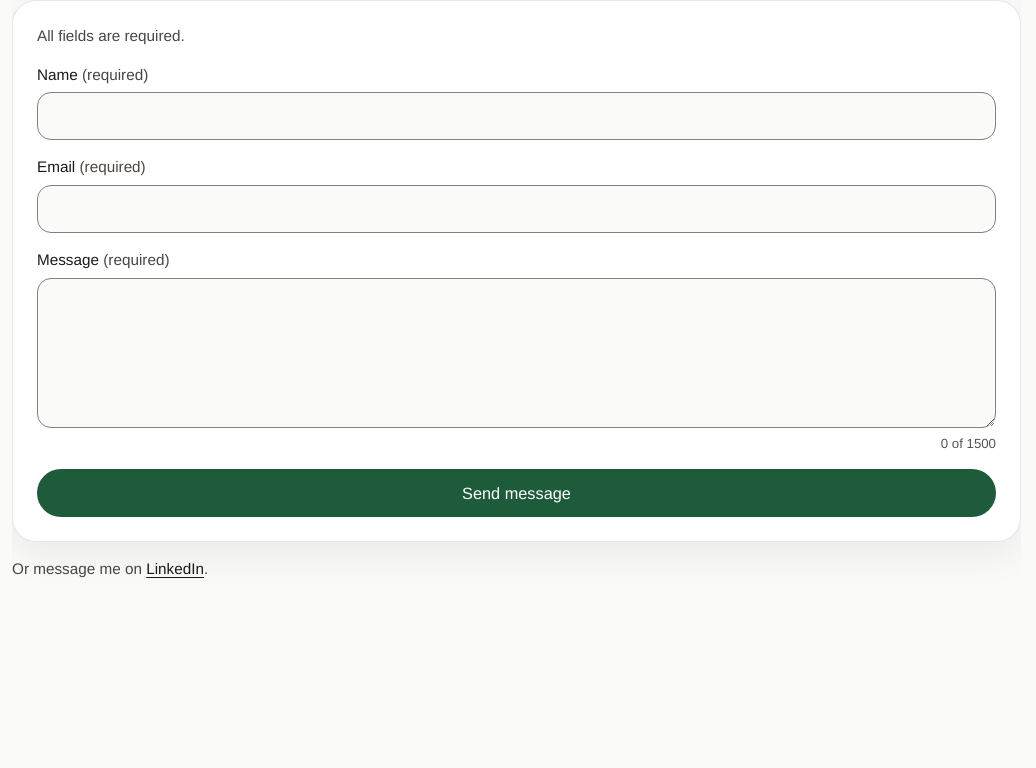
it: ContactForm analytics › records nothing when the API refuses the message
Type "Ada Lovelace" into the field labelled "Name (required)". click: point(516, 116)
box: [37,92,996,140]
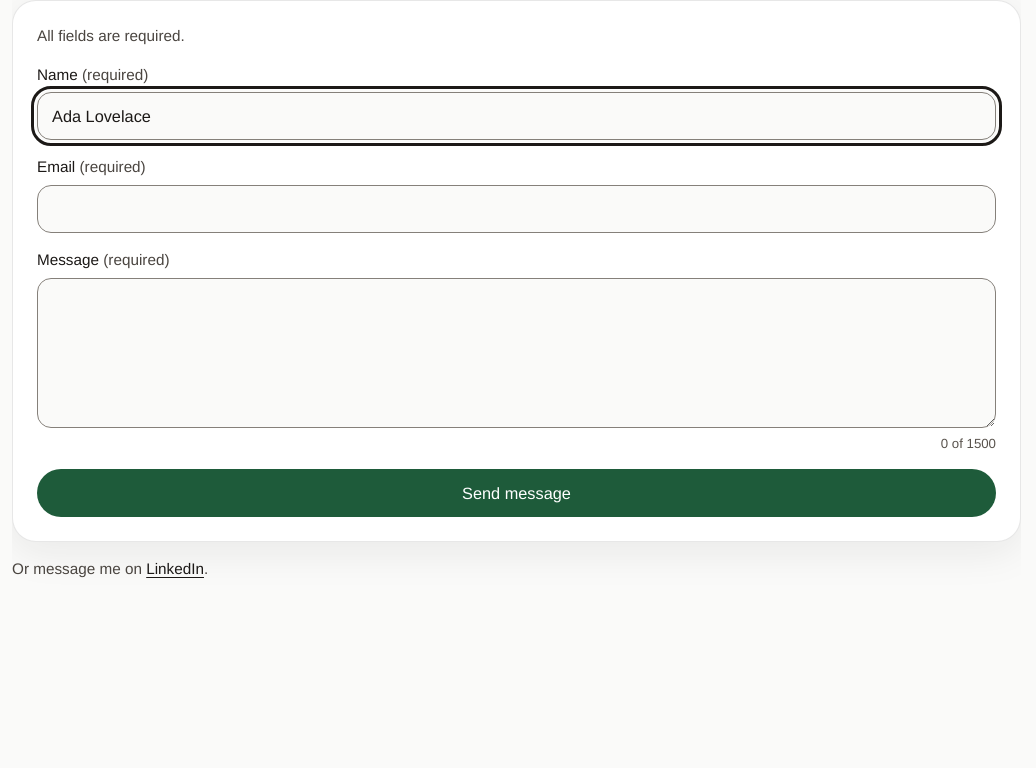
Type "ada@example.com" into the field labelled "Email (required)". click: point(516, 209)
box: [37,185,996,233]
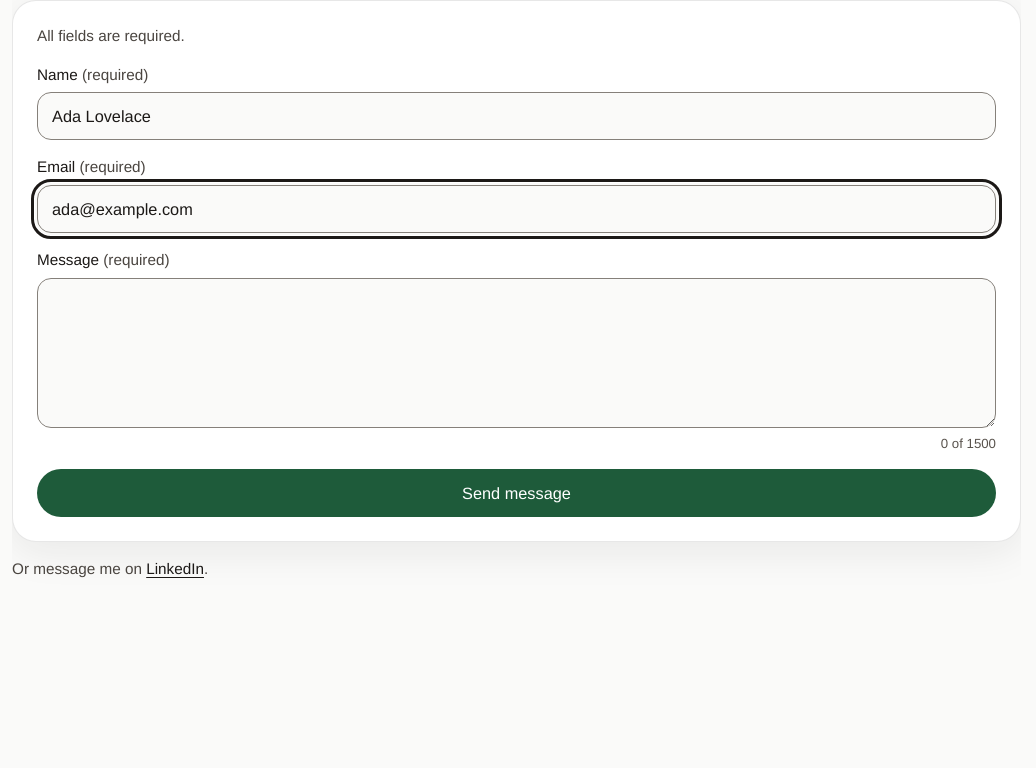
Type "Hello there." into the text box labelled "Message (required)". click: point(516, 353)
box: [37,278,996,428]
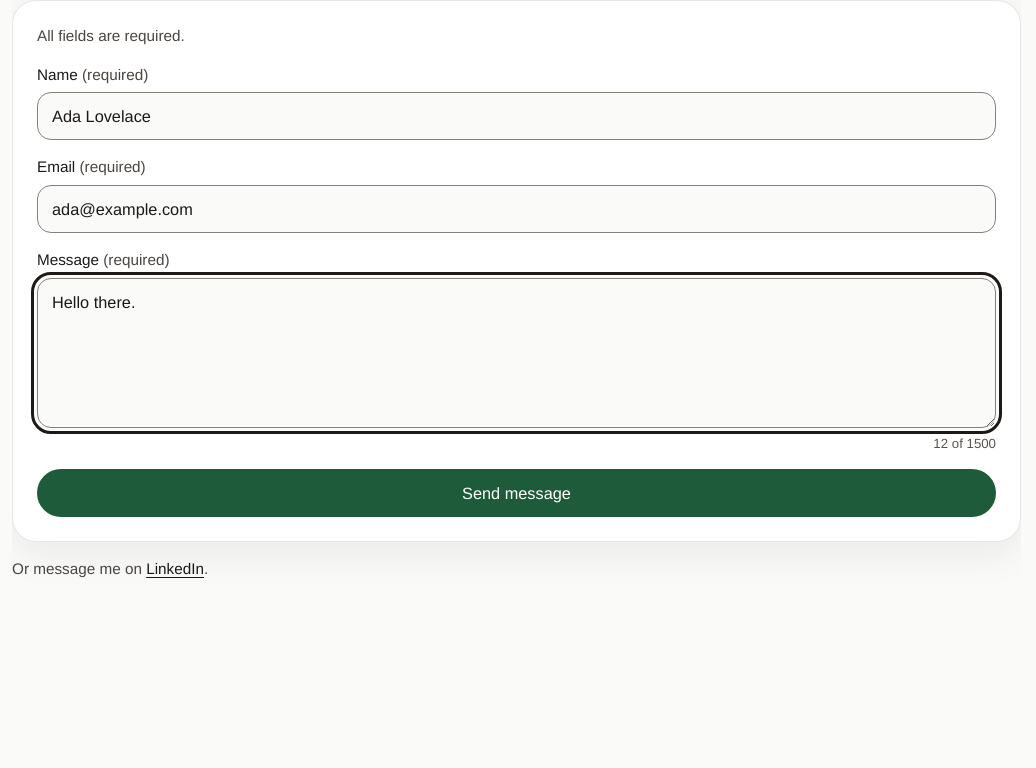
Click the button "Send message". click: point(516, 493)
box: [37,469,996,517]
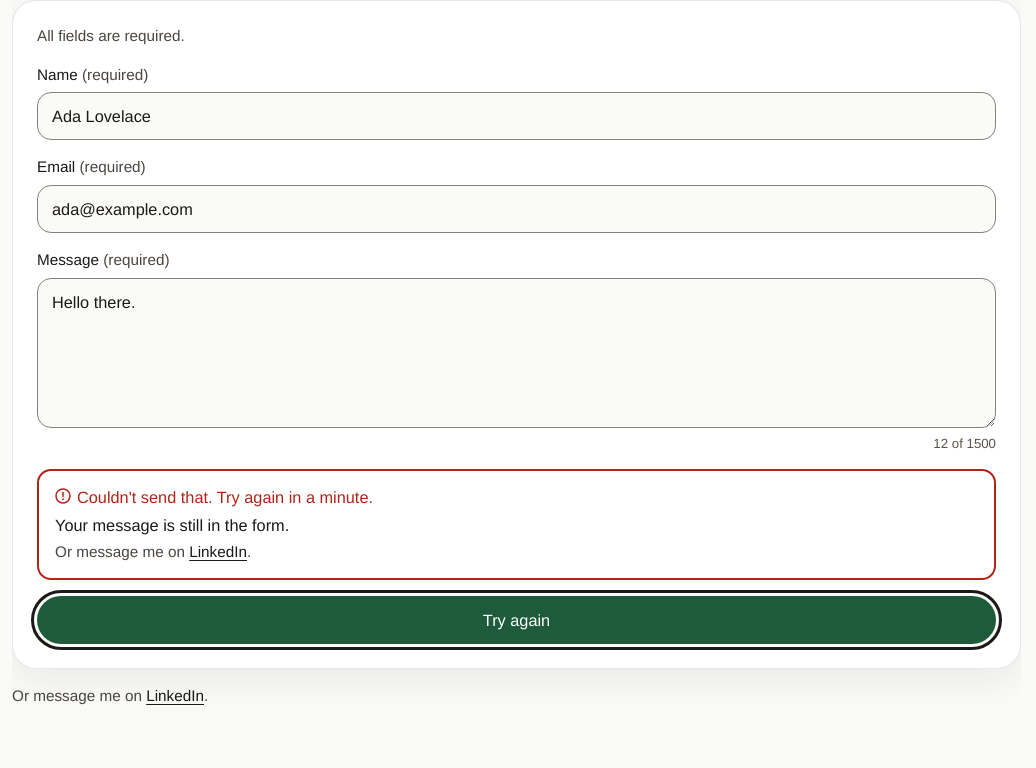
Expected: the text "Couldn't send that. Try again in a minute." is shown, [55,488,373,506]
